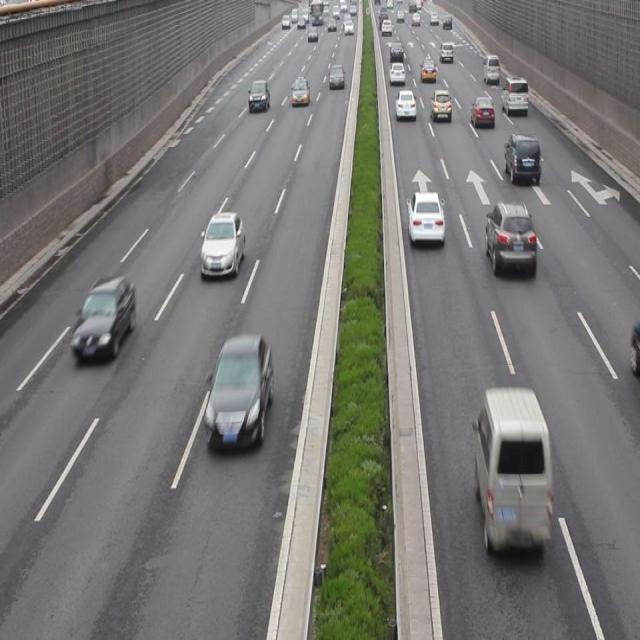car: (203, 336, 273, 450), (71, 278, 135, 361), (484, 201, 533, 275), (199, 211, 246, 281), (407, 193, 444, 247), (502, 133, 538, 186)
truck: (472, 388, 553, 558)
